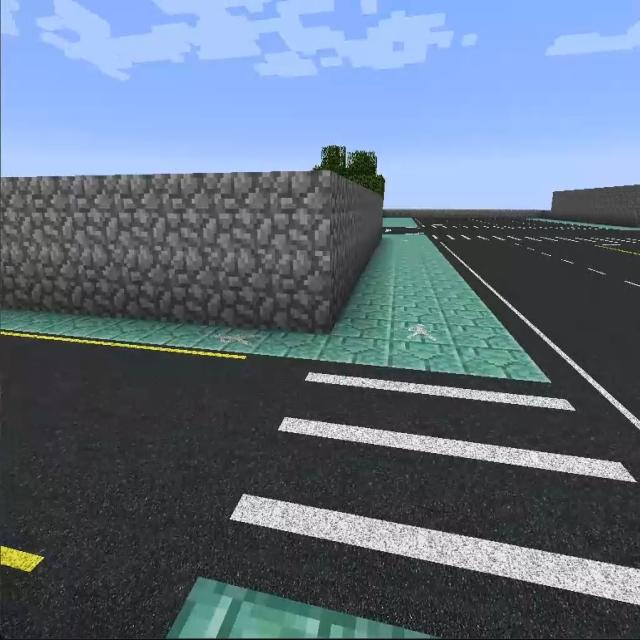crosswalk: (206, 368, 636, 633), (429, 232, 639, 243)
road: (4, 328, 280, 633), (443, 240, 637, 470)
sidewalk: (0, 231, 550, 382), (167, 578, 435, 639), (530, 218, 639, 232), (383, 217, 417, 228)
